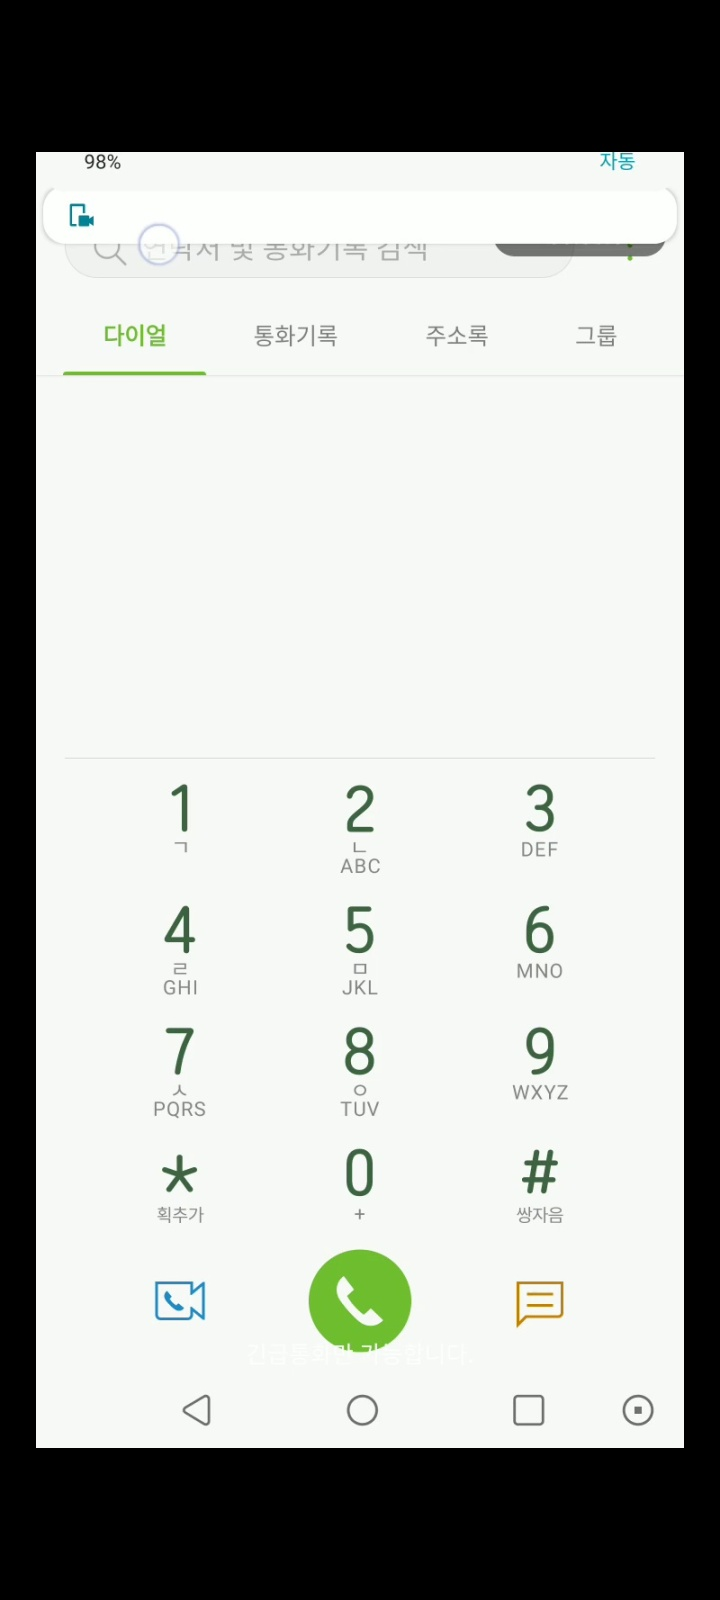Cursor: (137, 221, 182, 267)
